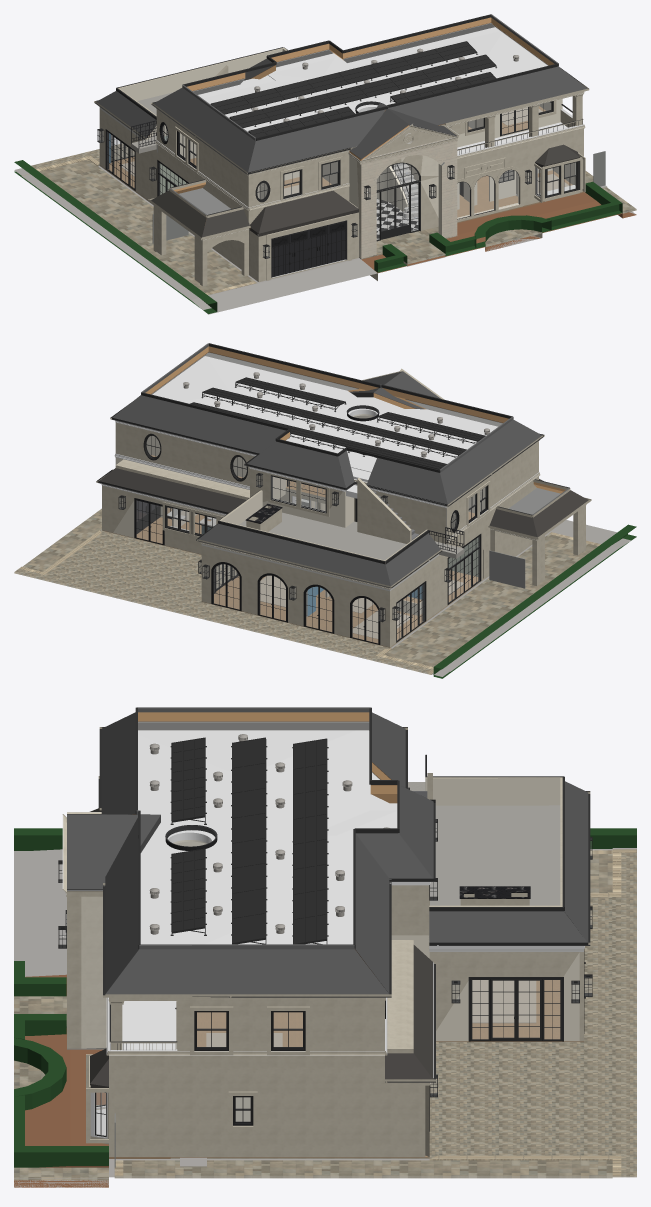
The model's file is exterior-house-d9726b109841.glb.
3 renders of one model, top to bottom at view 1: azimuth 30°, elevation 25°; view 2: azimuth 150°, elevation 25°; view 3: azimuth 270°, elevation 25°, orthographic. The views are drawn at different scales.
Parts seen in each view (by area): view 1: exterior-house-27d577fbd7f2ff4b, exterior-house-d56ee2a9d54b1fc2, exterior-house-8ae50a6395ceb8a4, exterior-house-e33d7b378dc851e2, exterior-house-0b9d5d1cd0b2c60f, exterior-house-7cf8e5cfa8b264af, exterior-house-25c3ff3929e46046, exterior-house-0cae3eb2f2d52fad, exterior-house-aee2d046b0172b1e, exterior-house-2f311b438f02a7c5, exterior-house-f9d31319fa3bf46f, exterior-house-a9e726e5451ff895 (+61 smaller); view 2: exterior-house-37d1b262fca80116, exterior-house-d56ee2a9d54b1fc2, exterior-house-27d577fbd7f2ff4b, exterior-house-969b861f9850351e, exterior-house-c91f911e25c8cae7, exterior-house-5febae1537653d02, exterior-house-3b0077416469e01b, exterior-house-3763e2fb8578d282, exterior-house-0cae3eb2f2d52fad, exterior-house-8ae50a6395ceb8a4, exterior-house-ded88bd99590d377, exterior-house-0b9d5d1cd0b2c60f (+50 smaller); view 3: exterior-house-37d1b262fca80116, exterior-house-d56ee2a9d54b1fc2, exterior-house-a75a0c9c223328ee, exterior-house-ded88bd99590d377, exterior-house-af97eba351c411ae, exterior-house-2c1fd33d433632d0, exterior-house-8ae50a6395ceb8a4, exterior-house-0b9d5d1cd0b2c60f, exterior-house-7cf8e5cfa8b264af, exterior-house-e706aa16b4547c37, exterior-house-adb6f49a6d2cbec3, exterior-house-3d5fbc3a2a5f9c05 (+51 smaller).
Part boxes in pixels (bbox=[...]): exterior-house-27d577fbd7f2ff4b: bbox=[39, 159, 256, 294]; exterior-house-d56ee2a9d54b1fc2: bbox=[203, 31, 547, 131]; exterior-house-8ae50a6395ceb8a4: bbox=[14, 166, 607, 314]; exterior-house-e33d7b378dc851e2: bbox=[388, 66, 586, 125]; exterior-house-0b9d5d1cd0b2c60f: bbox=[229, 54, 496, 127]; exterior-house-7cf8e5cfa8b264af: bbox=[210, 41, 477, 114]; exterior-house-25c3ff3929e46046: bbox=[248, 109, 385, 172]; exterior-house-0cae3eb2f2d52fad: bbox=[153, 87, 255, 172]; exterior-house-aee2d046b0172b1e: bbox=[361, 192, 636, 273]; exterior-house-2f311b438f02a7c5: bbox=[271, 220, 346, 277]; exterior-house-f9d31319fa3bf46f: bbox=[369, 138, 449, 256]; exterior-house-a9e726e5451ff895: bbox=[258, 190, 358, 236]; exterior-house-37d1b262fca80116: bbox=[14, 530, 433, 674]; exterior-house-d56ee2a9d54b1fc2: bbox=[152, 356, 497, 472]; exterior-house-27d577fbd7f2ff4b: bbox=[384, 532, 600, 666]; exterior-house-969b861f9850351e: bbox=[201, 546, 387, 646]; exterior-house-c91f911e25c8cae7: bbox=[112, 395, 285, 453]; exterior-house-5febae1537653d02: bbox=[199, 523, 390, 586]; exterior-house-3b0077416469e01b: bbox=[102, 507, 474, 647]; exterior-house-3763e2fb8578d282: bbox=[116, 422, 254, 486]; exterior-house-0cae3eb2f2d52fad: bbox=[440, 419, 541, 504]; exterior-house-8ae50a6395ceb8a4: bbox=[14, 520, 636, 676]; exterior-house-ded88bd99590d377: bbox=[239, 512, 446, 560]; exterior-house-0b9d5d1cd0b2c60f: bbox=[201, 387, 466, 457]; exterior-house-37d1b262fca80116: bbox=[429, 849, 636, 1177]; exterior-house-d56ee2a9d54b1fc2: bbox=[138, 730, 397, 944]; exterior-house-a75a0c9c223328ee: bbox=[106, 949, 388, 994]; exterior-house-ded88bd99590d377: bbox=[430, 805, 560, 905]; exterior-house-af97eba351c411ae: bbox=[295, 1069, 425, 1156]; exterior-house-2c1fd33d433632d0: bbox=[114, 1160, 612, 1178]; exterior-house-8ae50a6395ceb8a4: bbox=[14, 848, 636, 1177]; exterior-house-0b9d5d1cd0b2c60f: bbox=[231, 737, 267, 944]; exterior-house-7cf8e5cfa8b264af: bbox=[292, 738, 328, 944]; exterior-house-e706aa16b4547c37: bbox=[429, 952, 579, 1041]; exterior-house-adb6f49a6d2cbec3: bbox=[177, 1001, 384, 1050]; exterior-house-3d5fbc3a2a5f9c05: bbox=[468, 977, 563, 1041].
Bounding box in the file's own units: 28 × 8.45 × 22.
Materials: 84 (23 with a texture image).
